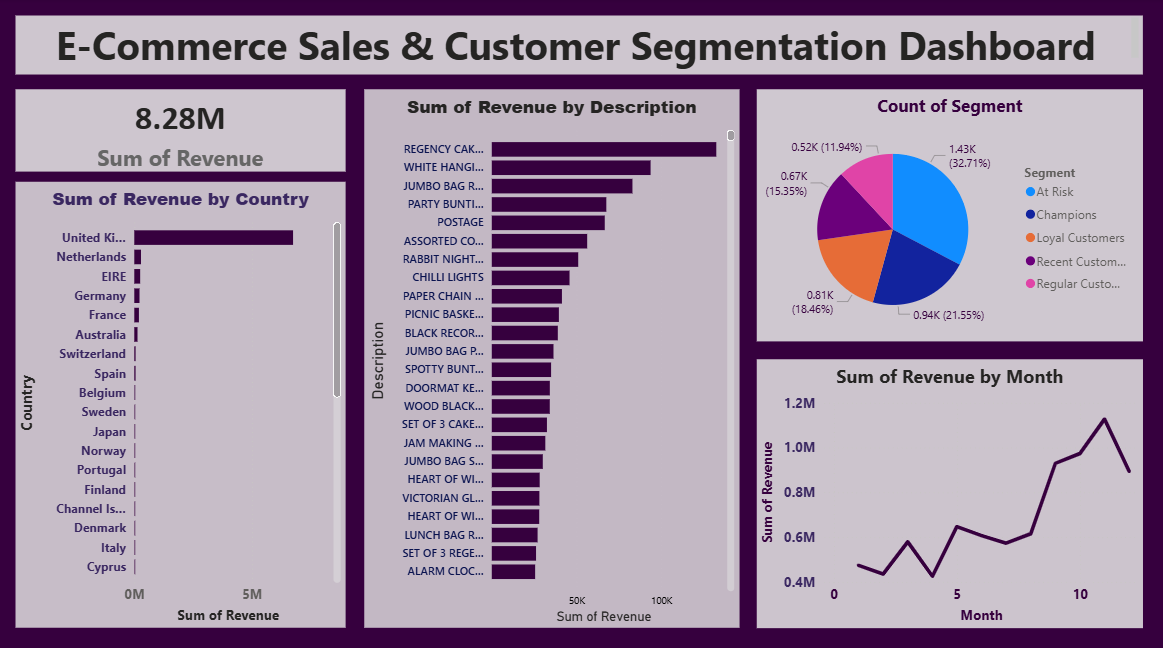

Layout of this report page (visuals, bound fields, positions):
{"tool":"powerbi","page":{"name":"Page 1","canvas":[1280,720],"ordinal":0},"visuals":[{"type":"card","fields":{"Values":["Sum(cleaned_retail_data.Revenue)"]},"box":[19.2,100.2,362.3,90.6],"z":0},{"type":"lineChart","fields":{"Y":["Sum(cleaned_retail_data.Revenue)"],"Category":["cleaned_retail_data.Month"]},"box":[832.9,396.6,424,295],"z":1000},{"type":"clusteredBarChart","fields":{"Category":["cleaned_retail_data.Country"],"Y":["Sum(cleaned_retail_data.Revenue)"]},"box":[19.2,201.7,362.3,489.9],"z":2000},{"type":"clusteredBarChart","fields":{"Category":["cleaned_retail_data.Description"],"Y":["Sum(cleaned_retail_data.Revenue)"]},"box":[402.1,100.2,411.7,591.4],"z":3000},{"type":"pieChart","title":"Count of Segment ","fields":{"Category":["rfm_customer_segments.Segment"],"Y":["CountNonNull(rfm_customer_segments.Segment)"]},"box":[832.9,100.2,424,277.2],"z":4000},{"type":"textbox","box":[19.2,19.2,1237.7,64.5],"z":4001}]}

Visuals, with their boxes in screenshot pixels (x1, y1, x2, y2), scaled from the page's 1280x720 canvas onto the 1163x648 screenshot:
card - Sum(cleaned_retail_data.Revenue): [17, 90, 347, 172]
lineChart - Sum(cleaned_retail_data.Revenue) x cleaned_retail_data.Month: [757, 357, 1142, 622]
clusteredBarChart - cleaned_retail_data.Country x Sum(cleaned_retail_data.Revenue): [17, 182, 347, 622]
clusteredBarChart - cleaned_retail_data.Description x Sum(cleaned_retail_data.Revenue): [365, 90, 739, 622]
"Count of Segment " pieChart: [757, 90, 1142, 340]
textbox: [17, 17, 1142, 75]
